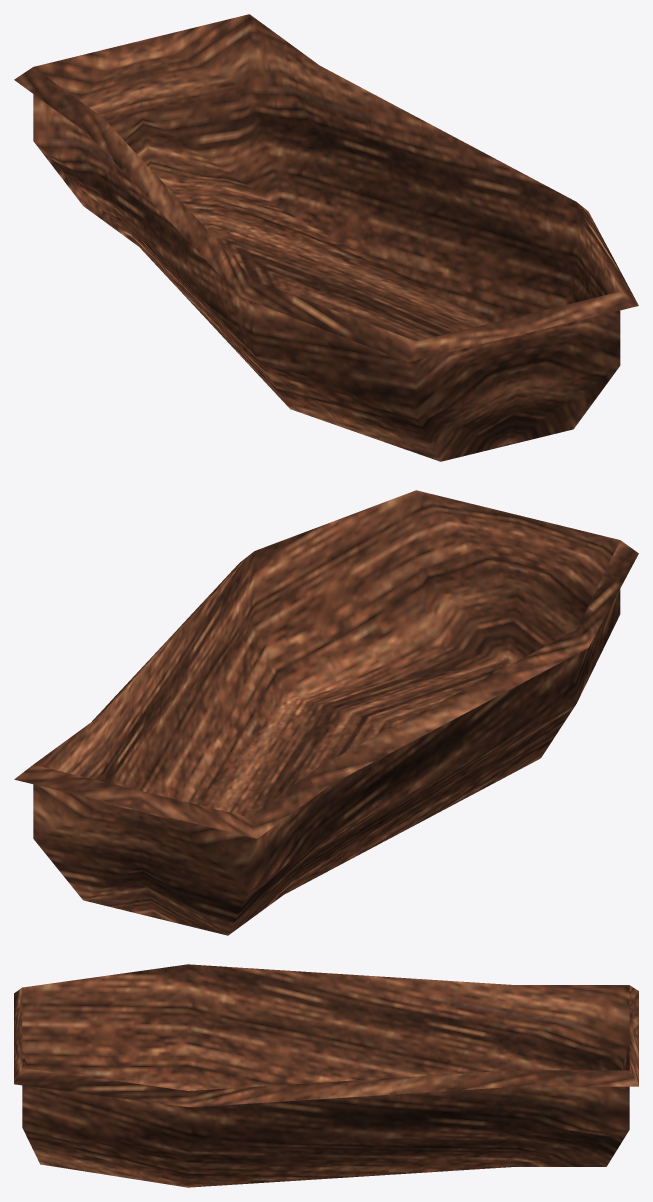
File: casket_open.glb
3 views of the same model, one above another, from view 1: azimuth 30°, elevation 25°; view 2: azimuth 150°, elevation 25°; view 3: azimuth 270°, elevation 25° (orthographic). The views are drawn at different scales.
Visible parts, largest first — view 1: casket_open; view 2: casket_open; view 3: casket_open.
Part boxes in pixels (x1,y1,x2,y2): casket_open: [14, 14, 638, 461]; casket_open: [14, 490, 638, 935]; casket_open: [14, 964, 638, 1187].
Bounding box in the file's own units: 2.2 × 0.8264 × 4.23.
Materials: 1 (1 with a texture image).
